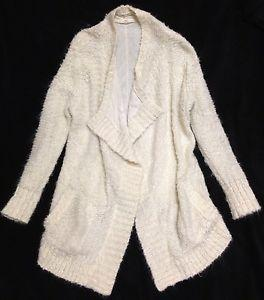S_cardigan sweater: (21, 21, 246, 296)
